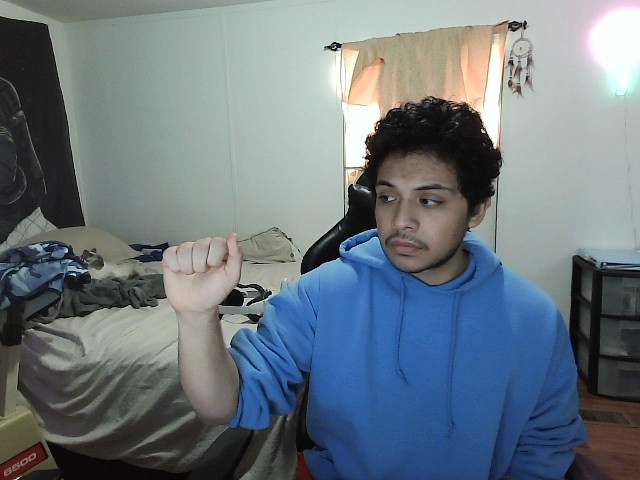A: (157, 228, 248, 317)
